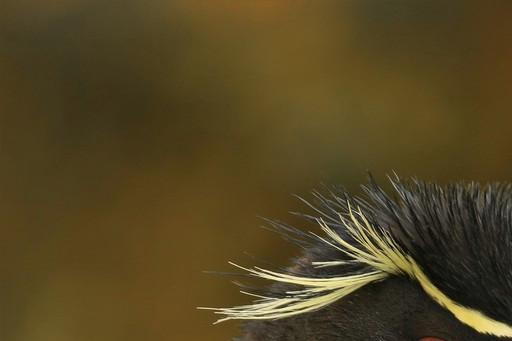Southern Rockhopper Penguin: (10, 147, 512, 341)
